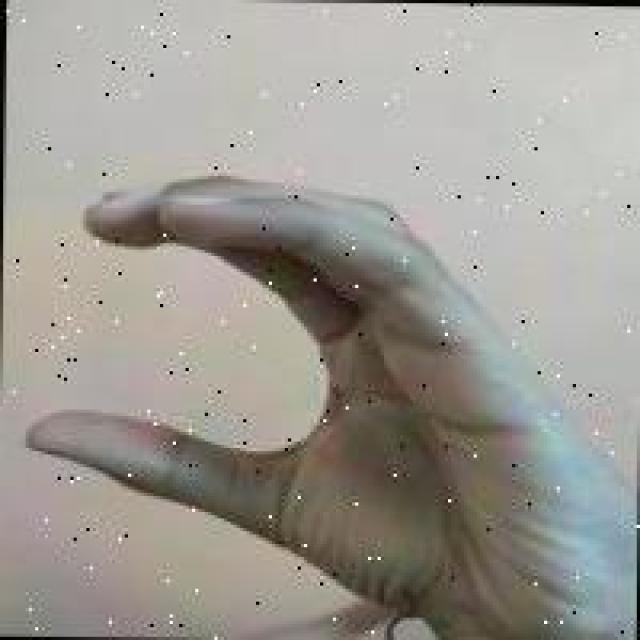C: (10, 167, 595, 628)
